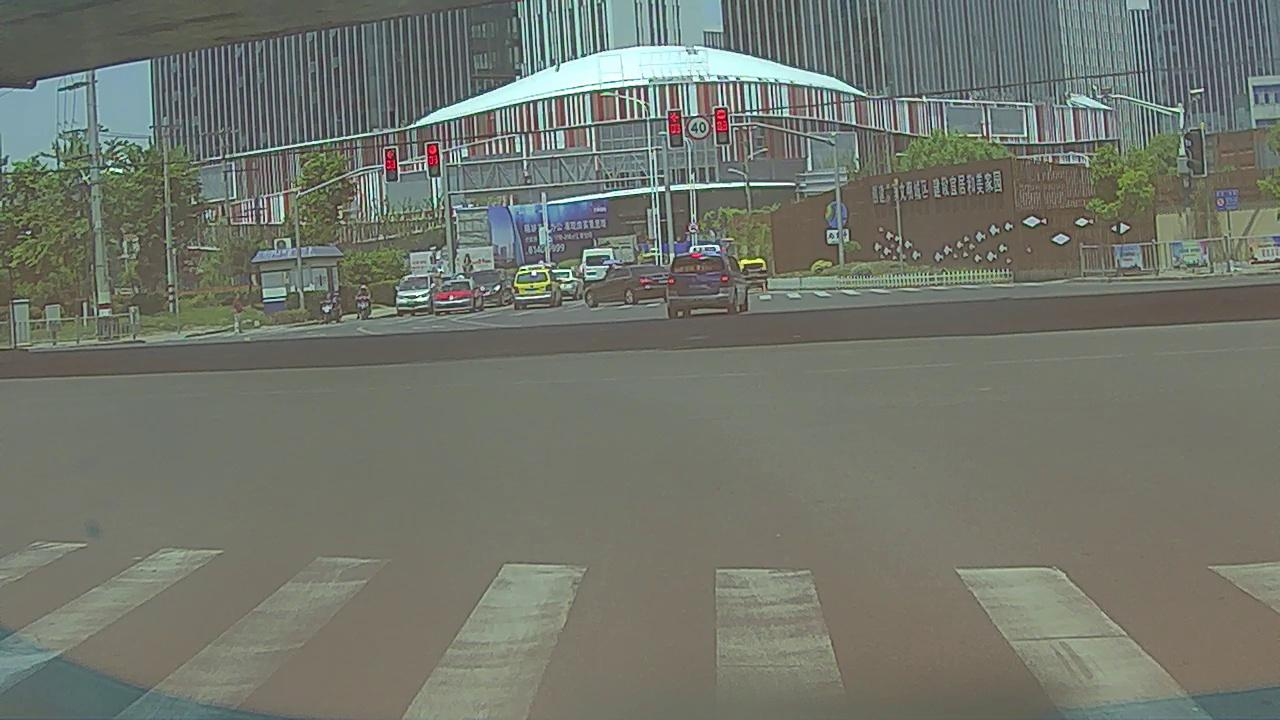traffic_light: (713, 107, 730, 145), (668, 108, 683, 147), (426, 144, 441, 178), (385, 150, 398, 181)
